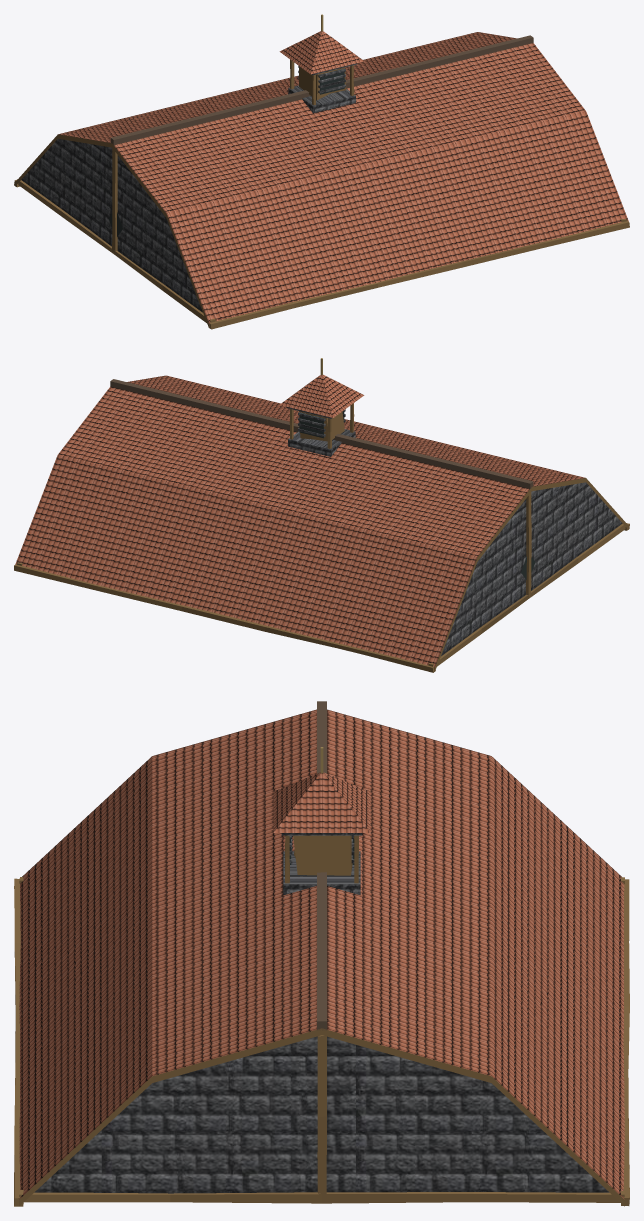
Rendered from town_Roof_tavern.glb.
3 views of the same model, one above another, from view 1: azimuth 30°, elevation 25°; view 2: azimuth 150°, elevation 25°; view 3: azimuth 270°, elevation 25° (orthographic). The views are drawn at different scales.
Visible parts, largest first — view 1: town_Roof_tavern.005; view 2: town_Roof_tavern.005; view 3: town_Roof_tavern.005.
Boxes of the visible parts, x1,y1,x2,y2 form: town_Roof_tavern.005: [14, 14, 629, 329]; town_Roof_tavern.005: [14, 358, 629, 672]; town_Roof_tavern.005: [14, 701, 629, 1206].
Bounding box in the file's own units: 10 × 4.36 × 8.13.
Materials: 3 (2 with a texture image).
